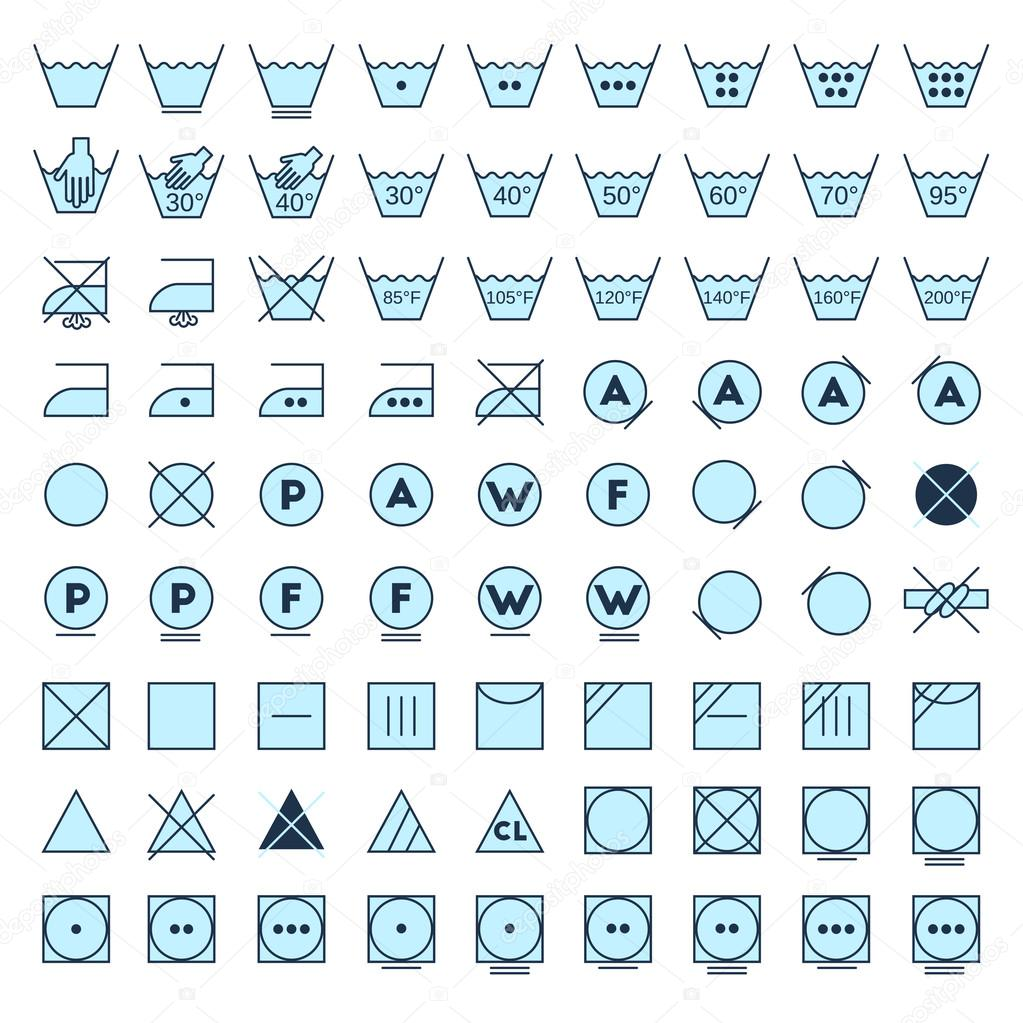do_not_bleach: (146, 785, 217, 862), (257, 785, 328, 862)
do_not_iron: (40, 254, 113, 331), (472, 353, 544, 427)
do_not_wash: (248, 252, 335, 324)
